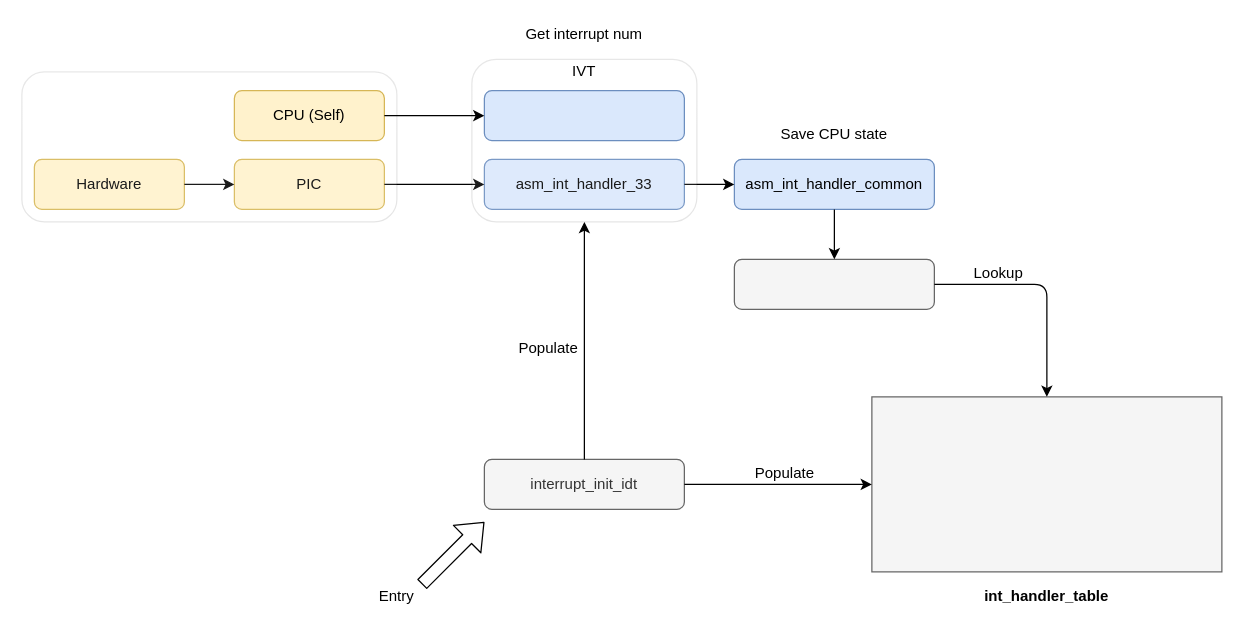
Image size: 1244x630. Some labels were removed from this diagram. The centre of each missing label's shape, as x and y in pixels:
"0x01 ISR_NON() 0xE ISR_PAGING() 0x21 ISR_KEYBOARD()" goes at pixel 1046 484.
"asm_int_handler_14" goes at pixel 583 115.
"interrupt_handler" goes at pixel 833 283.
